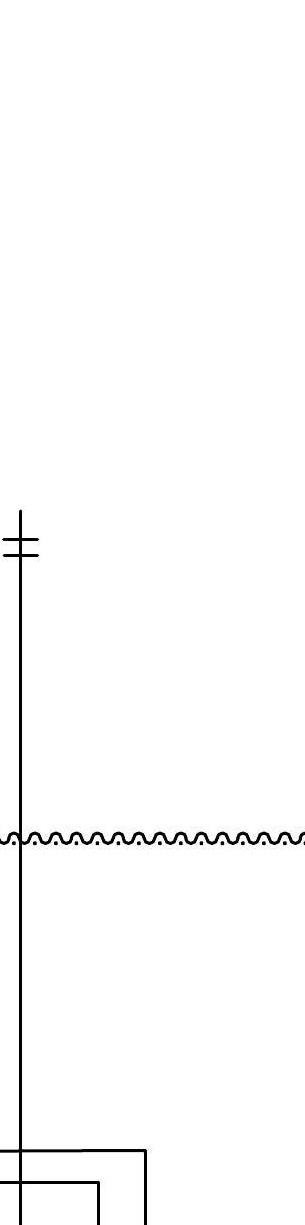115_buffer: (2, 538, 39, 557)
